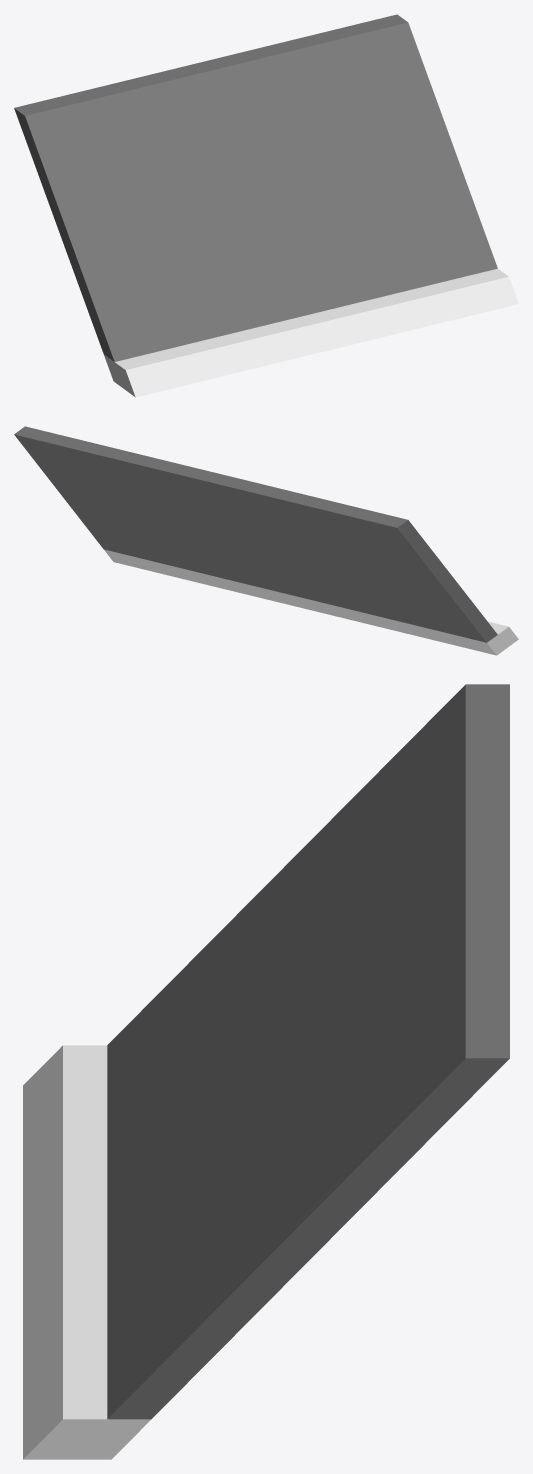
File: RoofSlope.fbx
3 views of the same model, one above another, from view 1: azimuth 30°, elevation 25°; view 2: azimuth 150°, elevation 25°; view 3: azimuth 270°, elevation 25° (orthographic). The views are drawn at different scales.
Visible parts, largest first — view 1: RoofSlope; view 2: RoofSlope; view 3: RoofSlope.
Boxes of the visible parts, x1,y1,x2,y2 form: RoofSlope: (14,14,518,397); RoofSlope: (14,426,518,655); RoofSlope: (23,684,509,1459).
Bounding box in the file's own units: 200 × 100 × 110.
